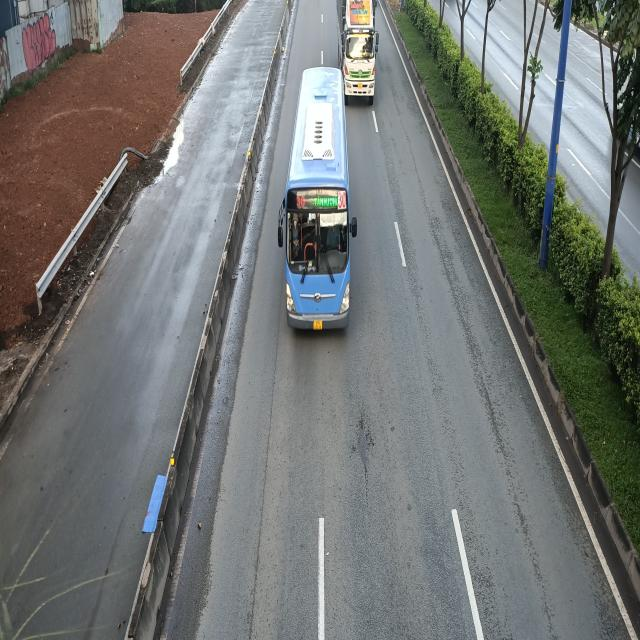coach: (276, 65, 353, 331)
truck: (337, 0, 378, 100)
